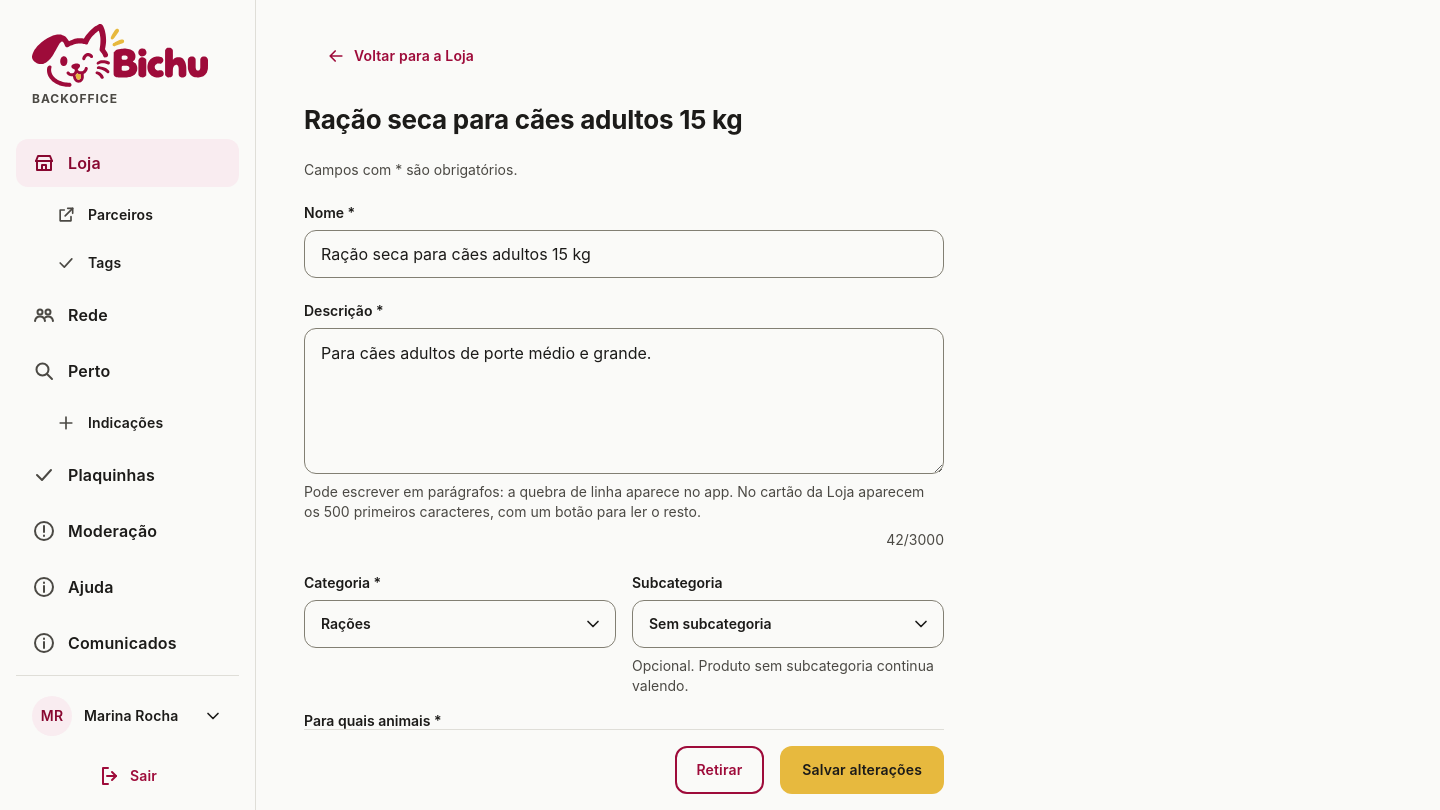
Test: defeito 4: retirar com o formulario alterado pede confirmacao › pergunta antes de abrir o dialogo de senha, e Continuar editando mantem o que foi digitado
Step 1. Replace the text in the field labelled "Nome *" with "Nome editado" → (624, 254), box x1=304 y1=230 x2=944 y2=278
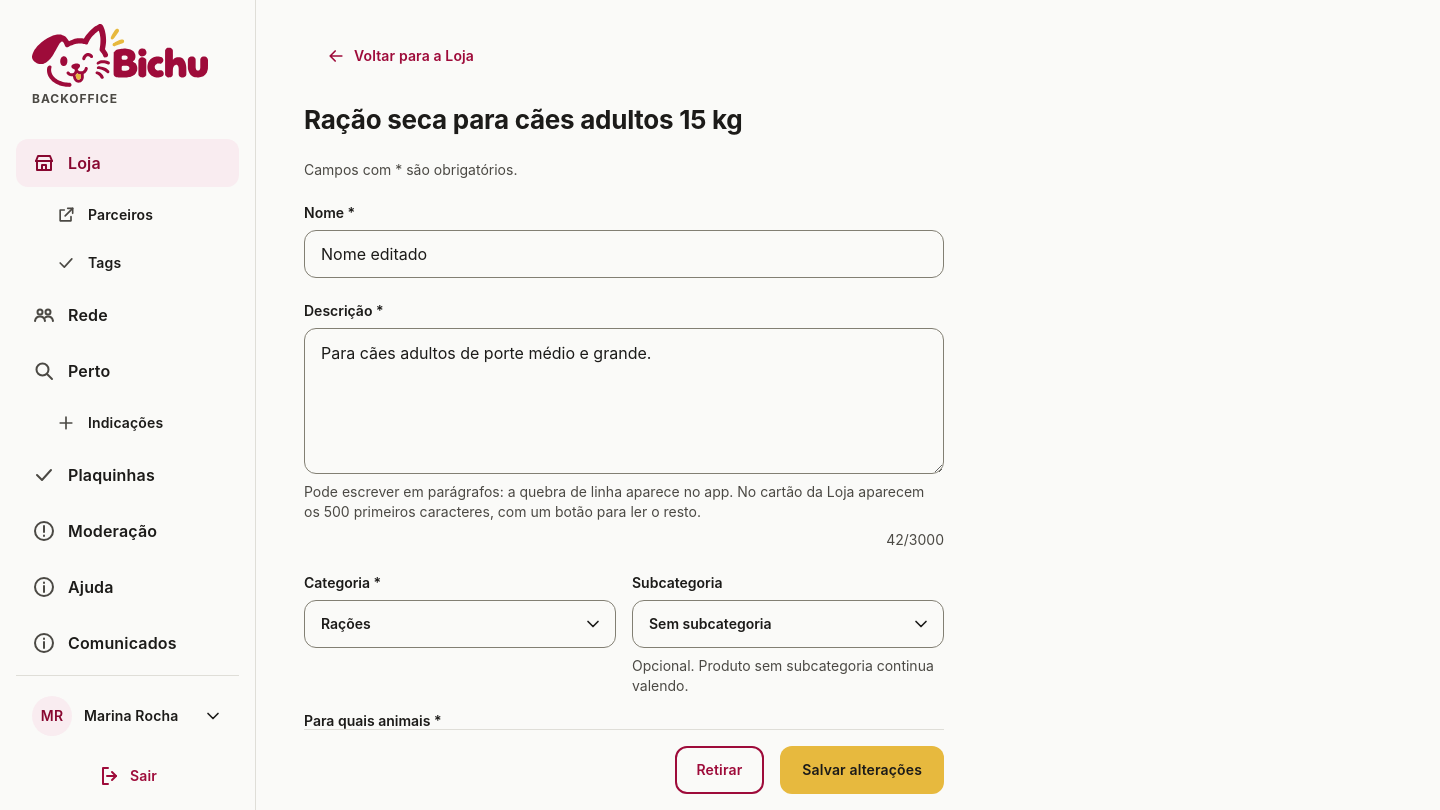
Step 2. Click the button "Retirar" → (719, 770), box x1=674 y1=746 x2=764 y2=794
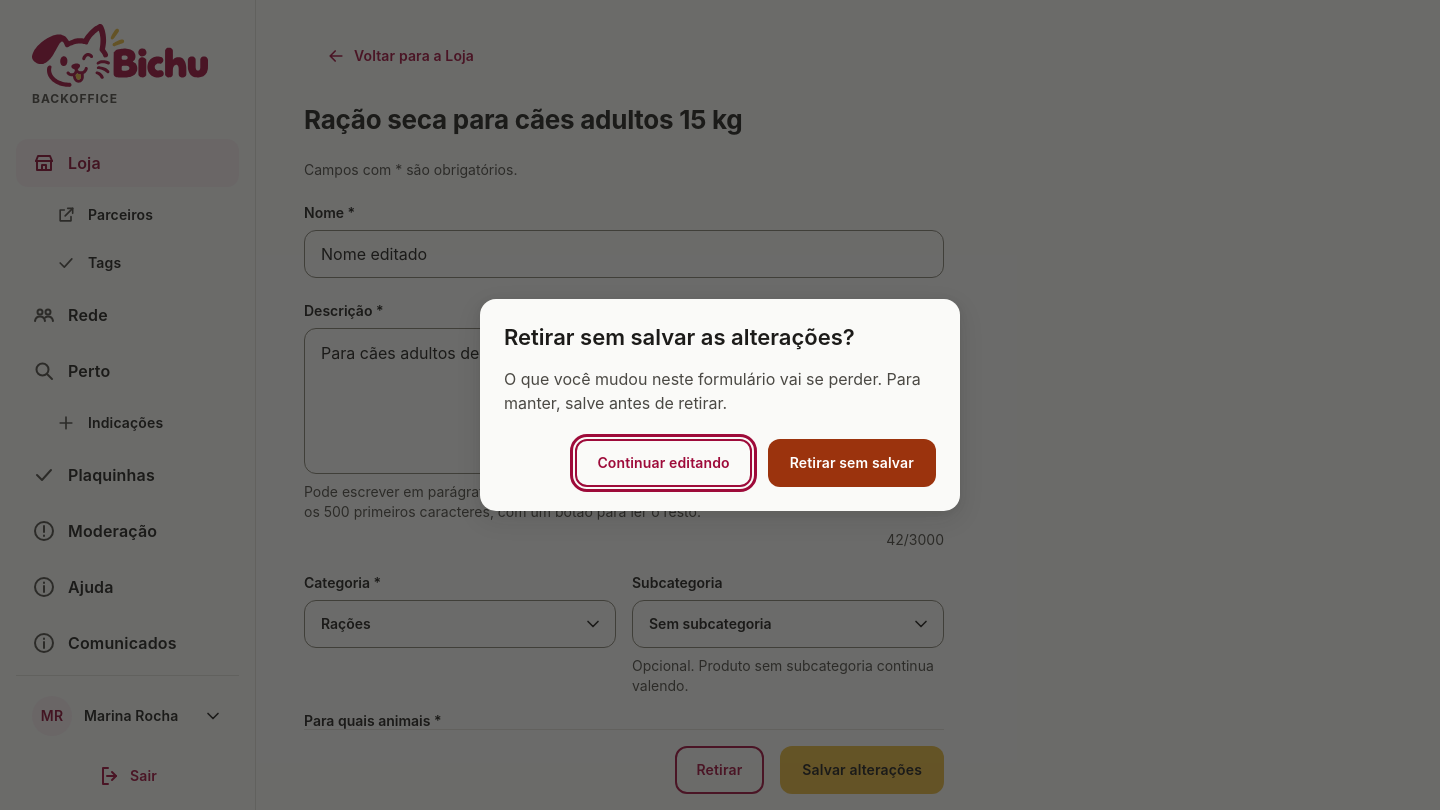
Step 3. Click the button "Continuar editando" → (664, 463), box x1=575 y1=439 x2=752 y2=487
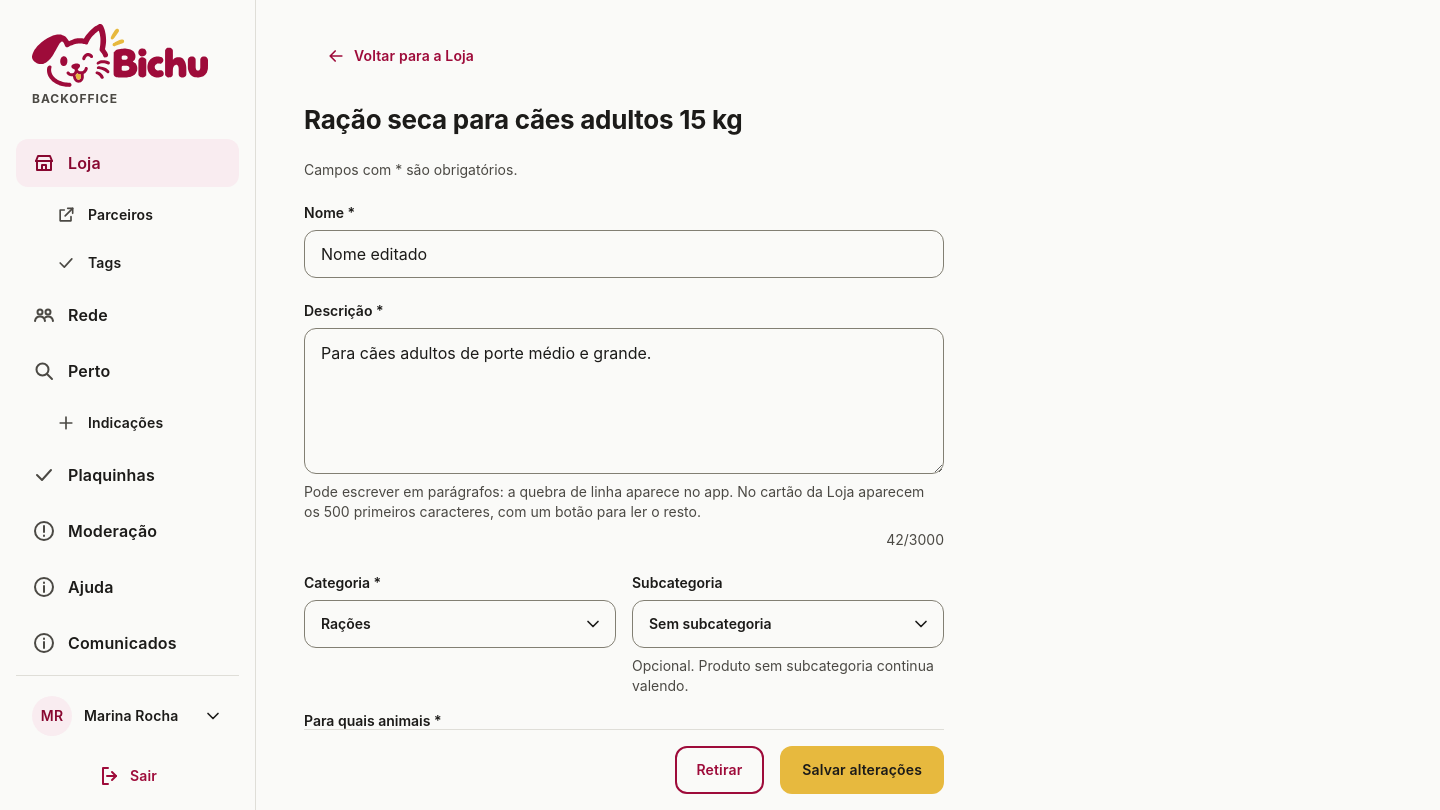
Check: the dialog is gone
Step 4. Click the button "Retirar" → (719, 770), box x1=674 y1=746 x2=764 y2=794
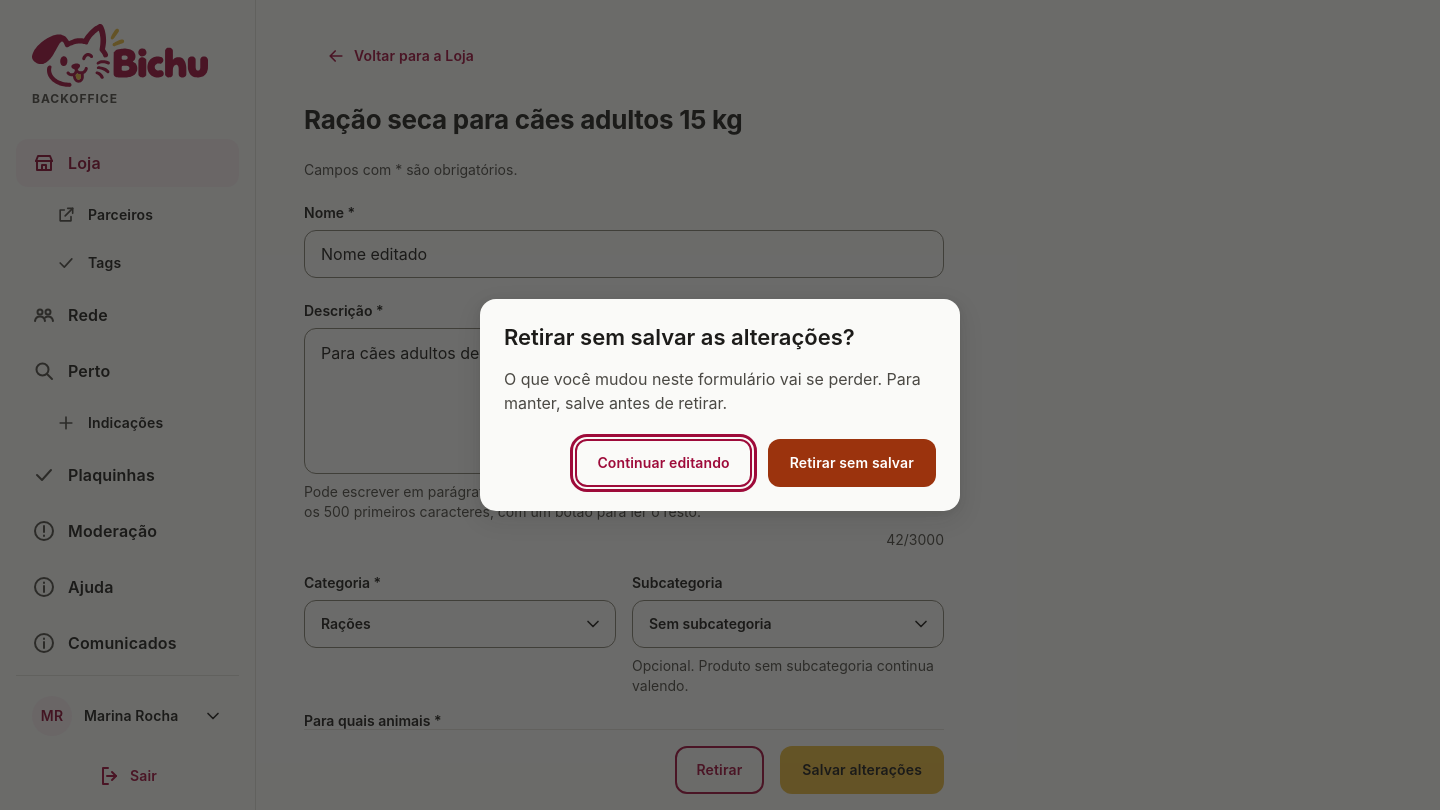
Step 5. Click the button "Retirar sem salvar" → (852, 463), box x1=768 y1=439 x2=936 y2=487
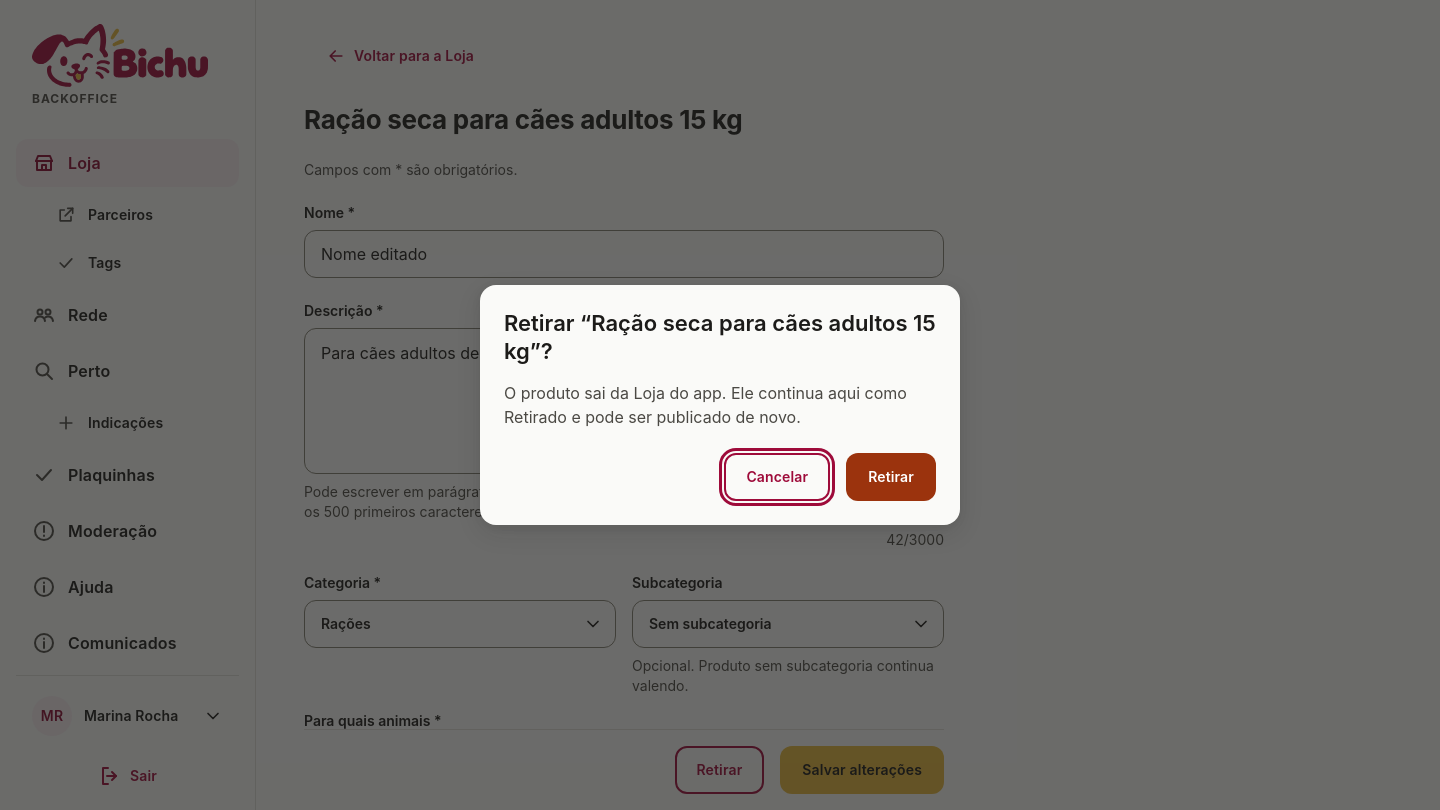
Check: the dialog "Retirar “Ração seca para cães adultos 15 kg”?" is shown, box x1=480 y1=285 x2=960 y2=525
